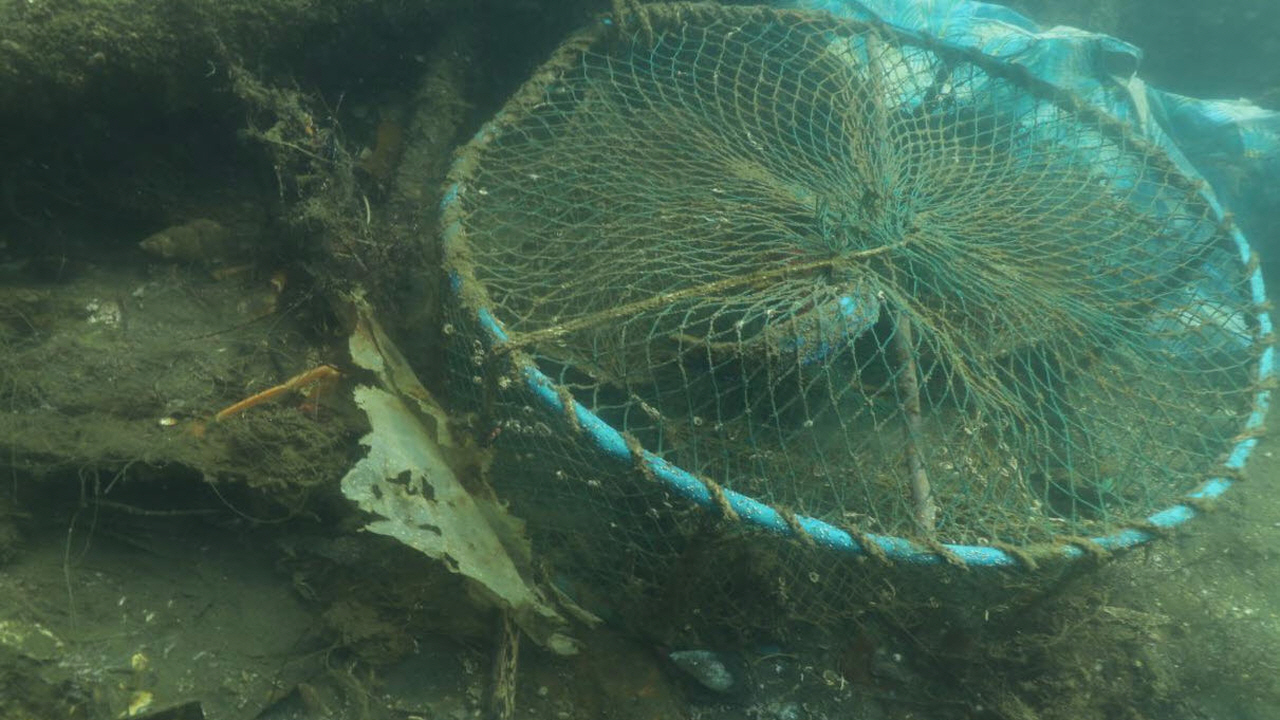circular fish trap: (438, 0, 1275, 620)
